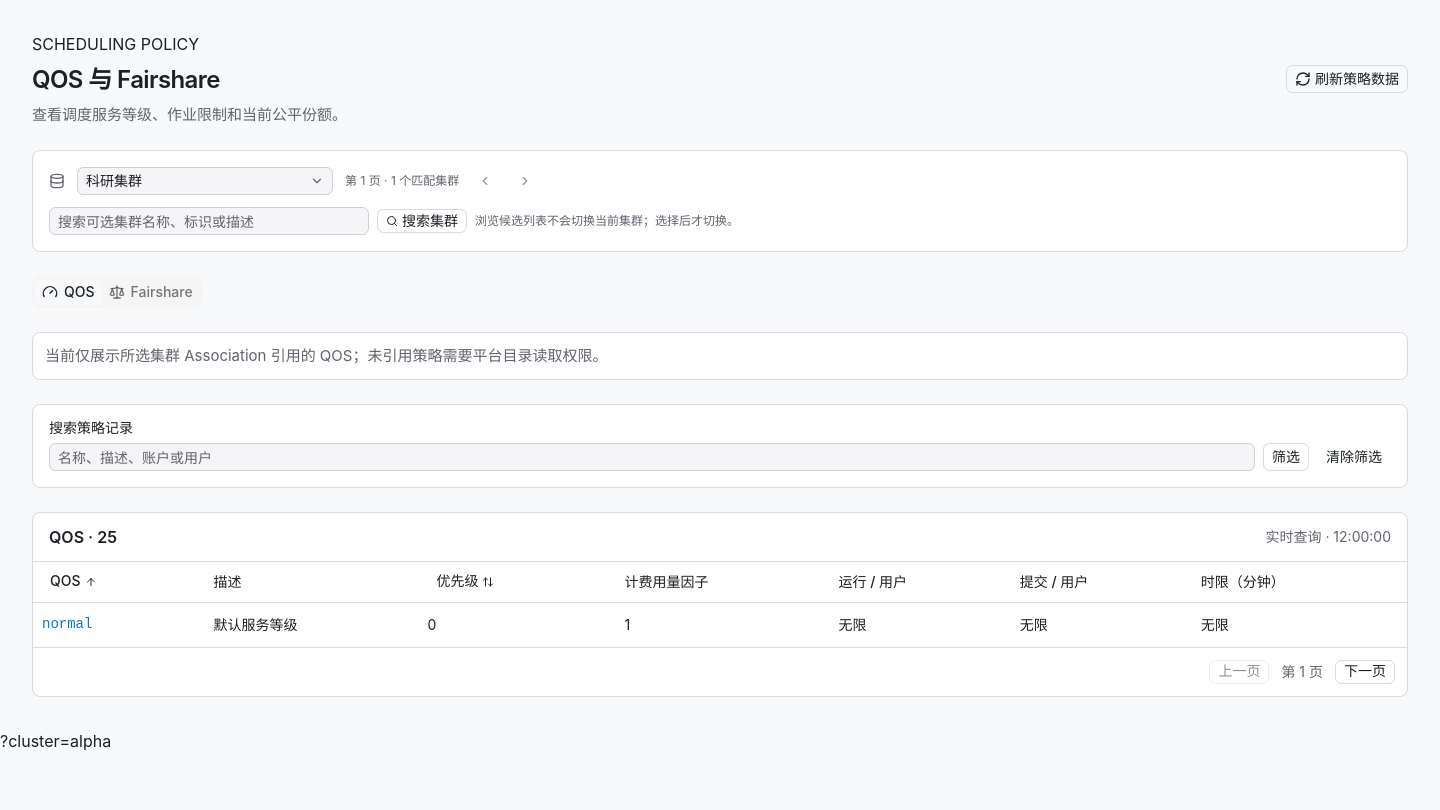
Test: 普通集群角色只读 QOS，查询排序分页保留集群
expect the button "normal" is shown: met, box [41,610,93,638]
expect the text "当前仅展示所选集群 Association 引用的 QOS；未引用策略需要平台目录读取权限。" is shown: met, box [32,332,1408,380]
Type "normal" into the field labelled "搜索策略记录" at (652, 457), box [49,443,1255,471]
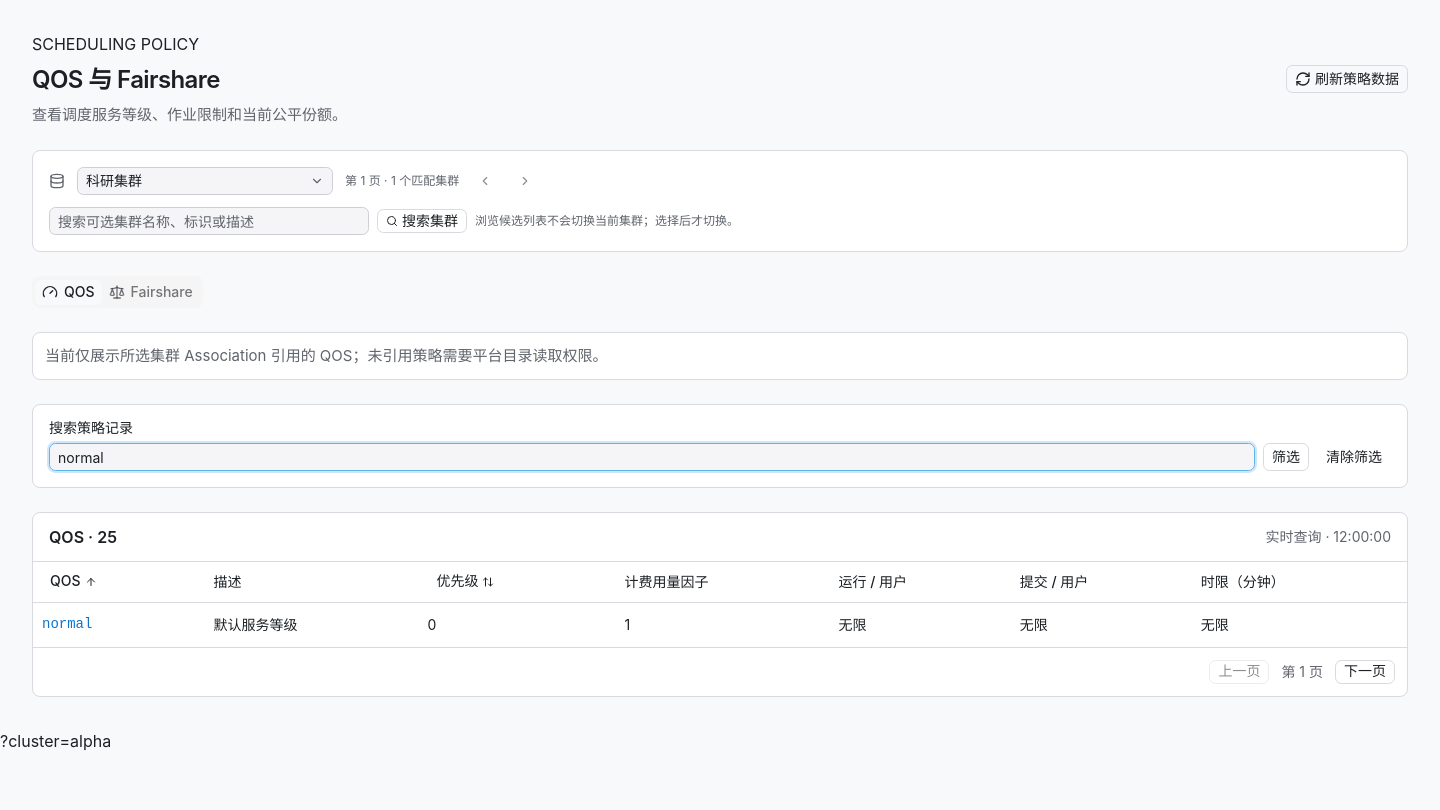
Click the button "筛选" at (1286, 457), box [1263,443,1309,471]
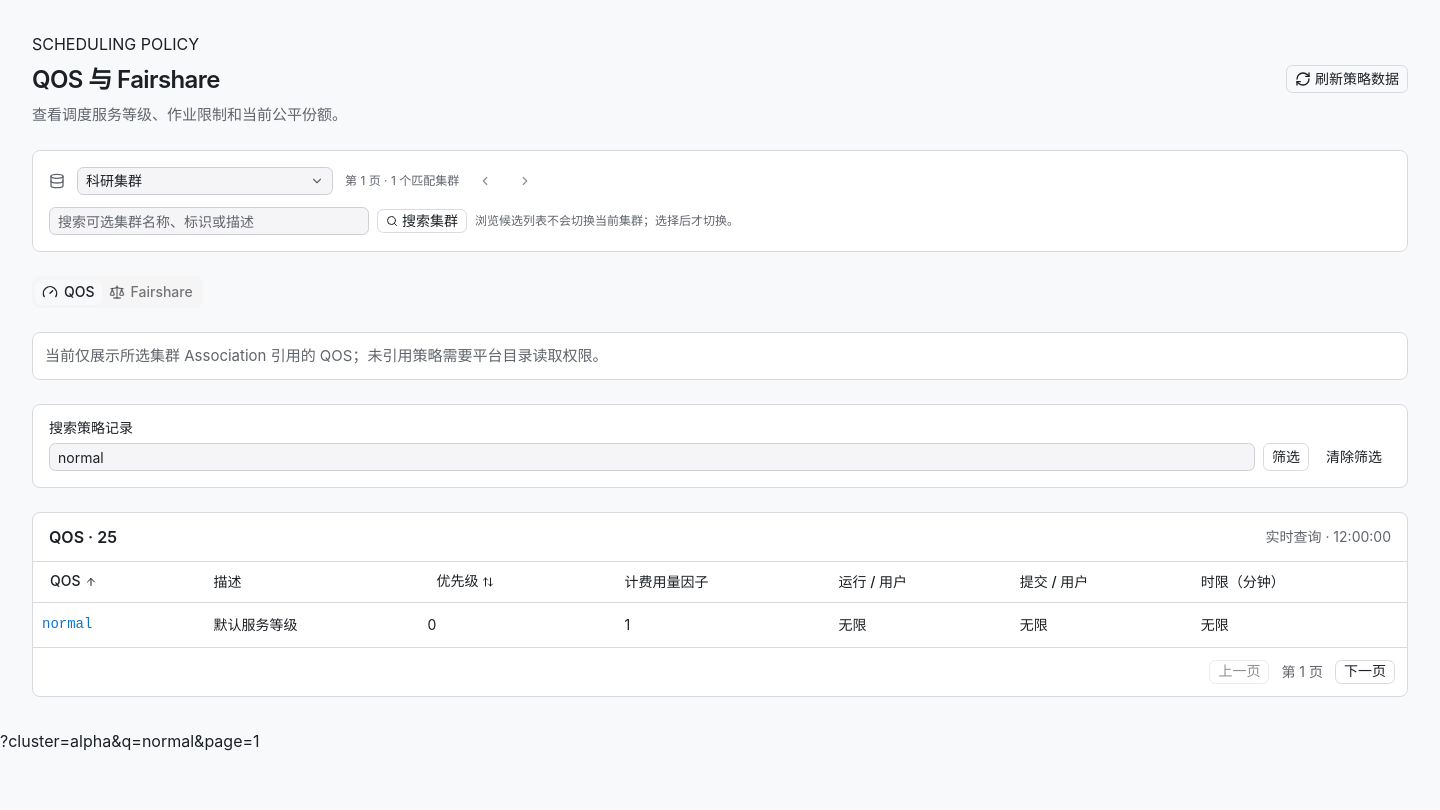
Click the button "优先级" at (466, 582), box [428,570,504,594]
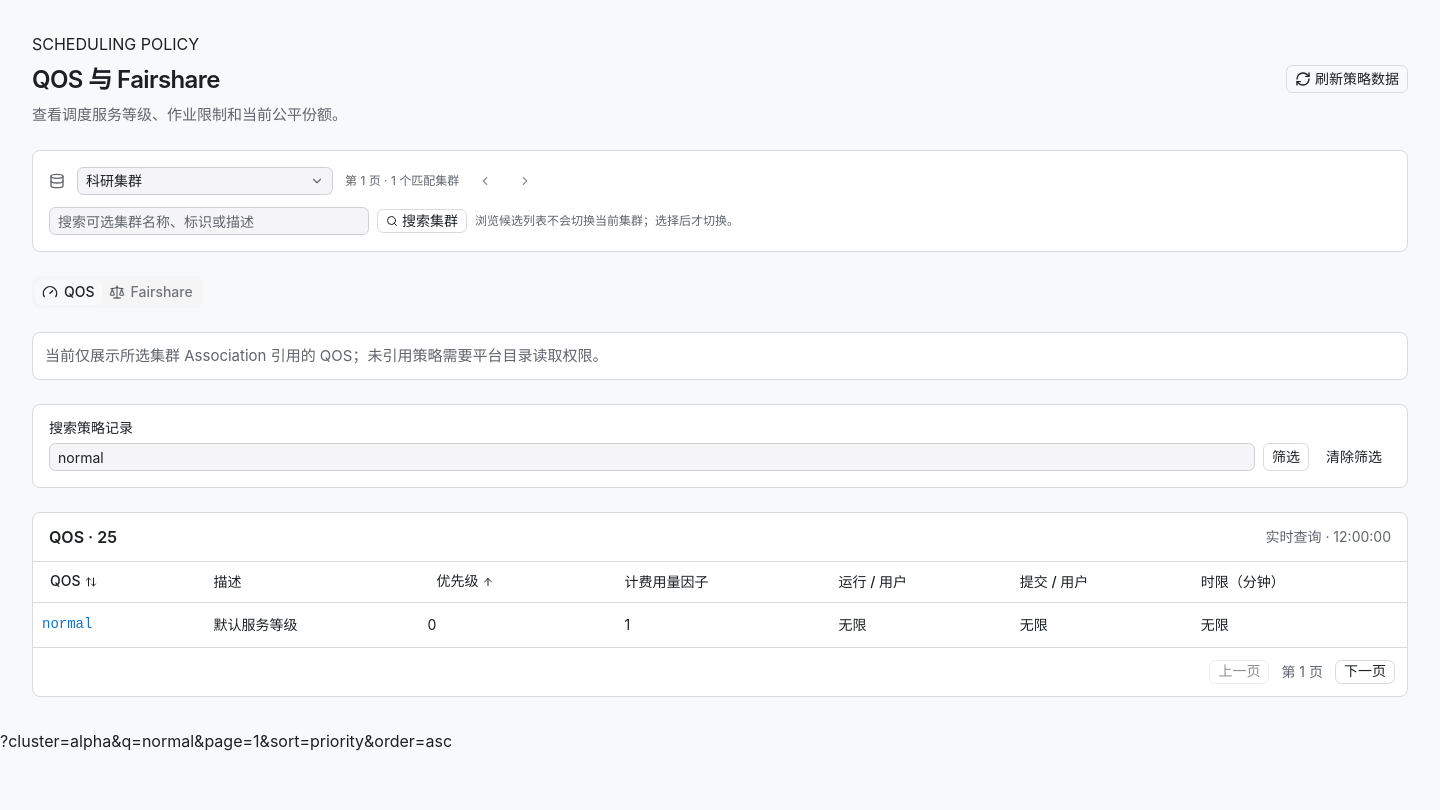
Click the button with aria-label "下一页策略记录" at (1365, 672), box [1335,660,1395,684]
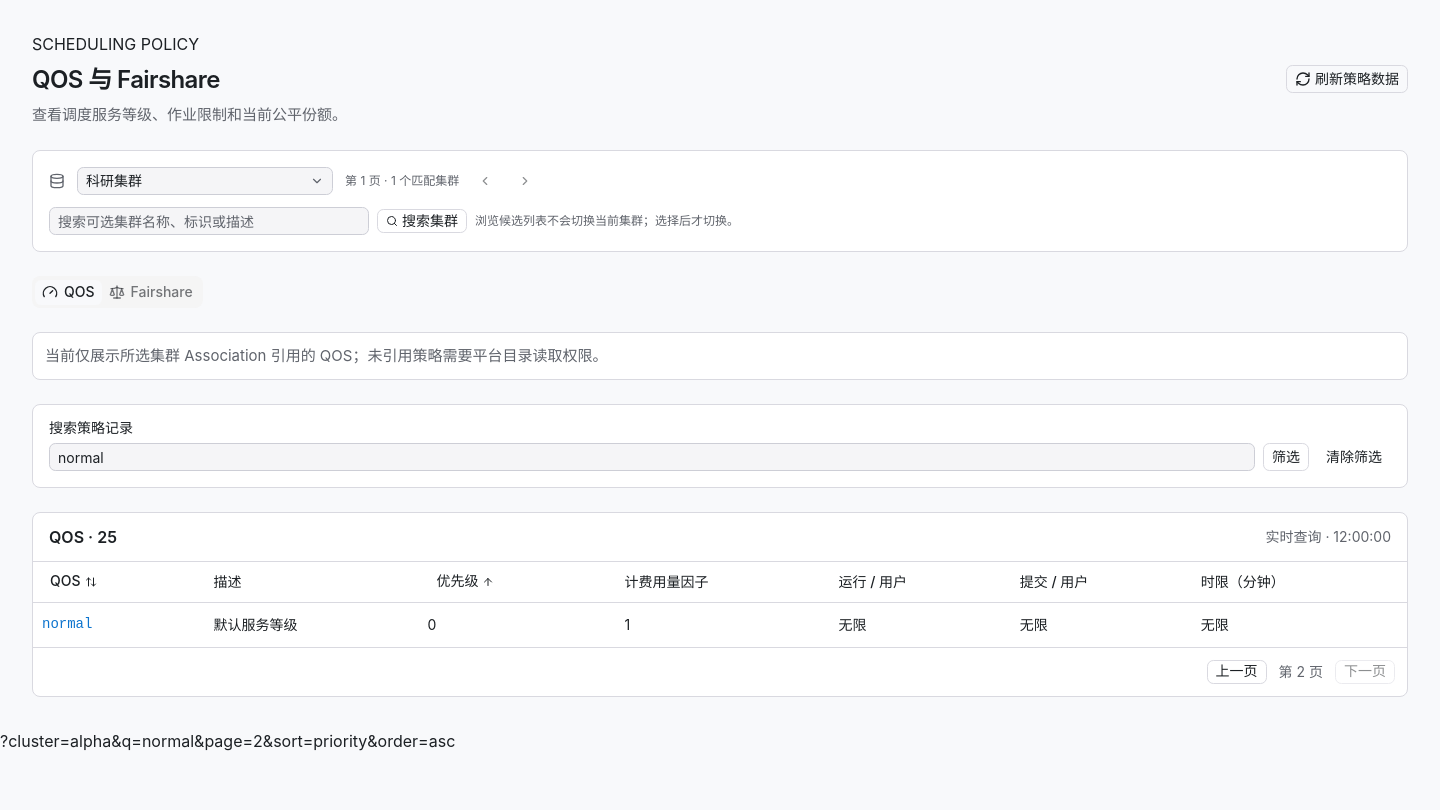
expect the text named "当前策略查询" shows "cluster=alpha": met, box [0,730,455,750]
expect the text named "当前策略查询" shows "page=2": met, box [0,730,455,750]
Click the button "normal" at (67, 624), box [41,610,93,638]
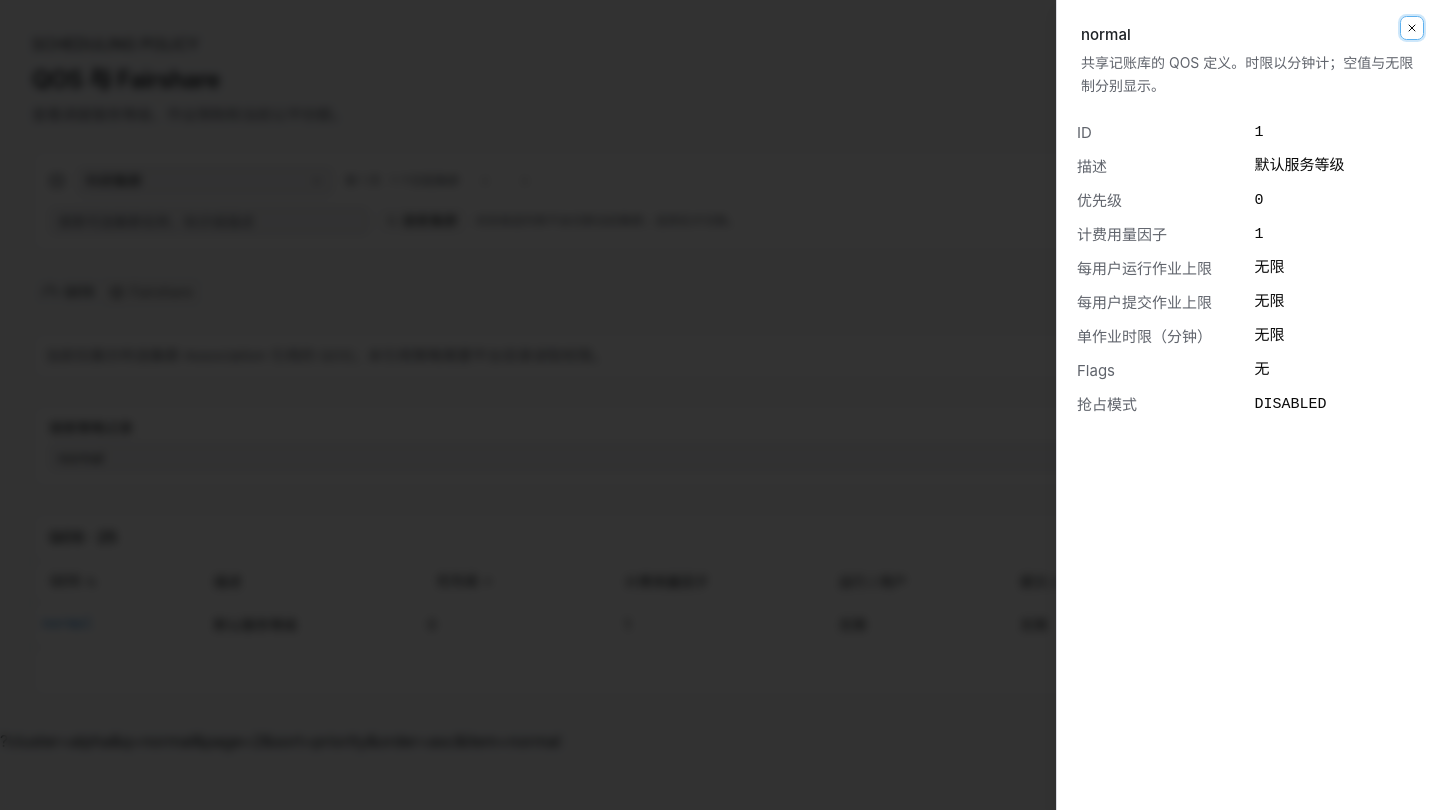
expect the heading "normal" is shown: met, box [1081,25,1131,44]
